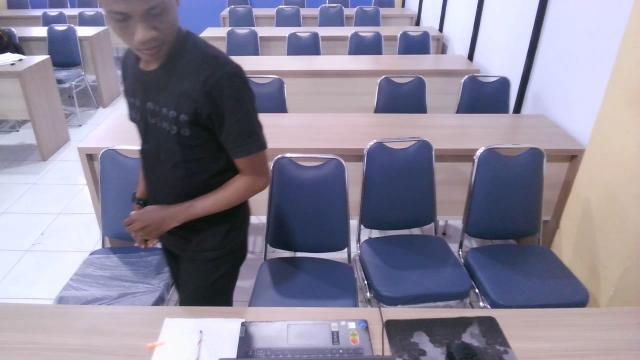Empty_Desk: (226, 129, 378, 358)
